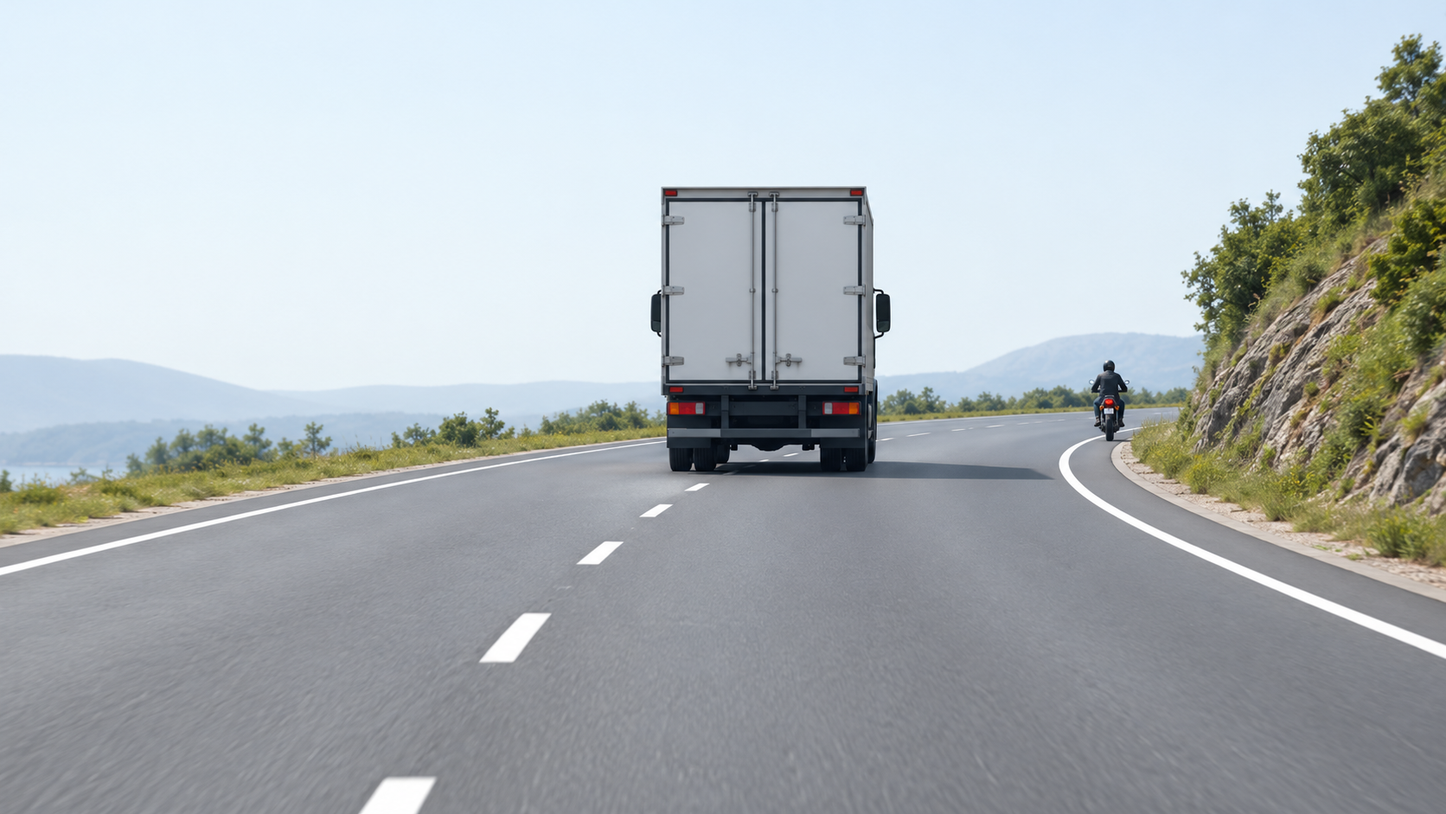motorcycle: (1077, 316, 1142, 407)
person: (1085, 300, 1137, 398)
truck: (649, 125, 880, 422)
